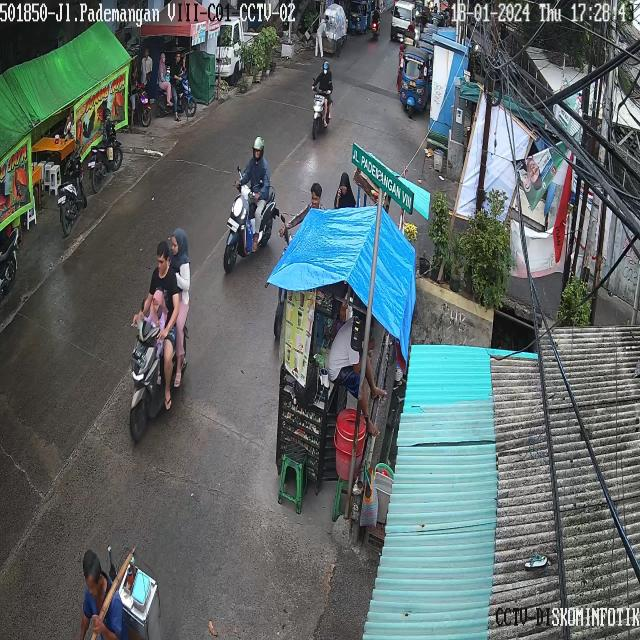Panggul: (73, 517, 165, 640)
Terpal: (1, 16, 126, 119), (265, 212, 386, 314)
